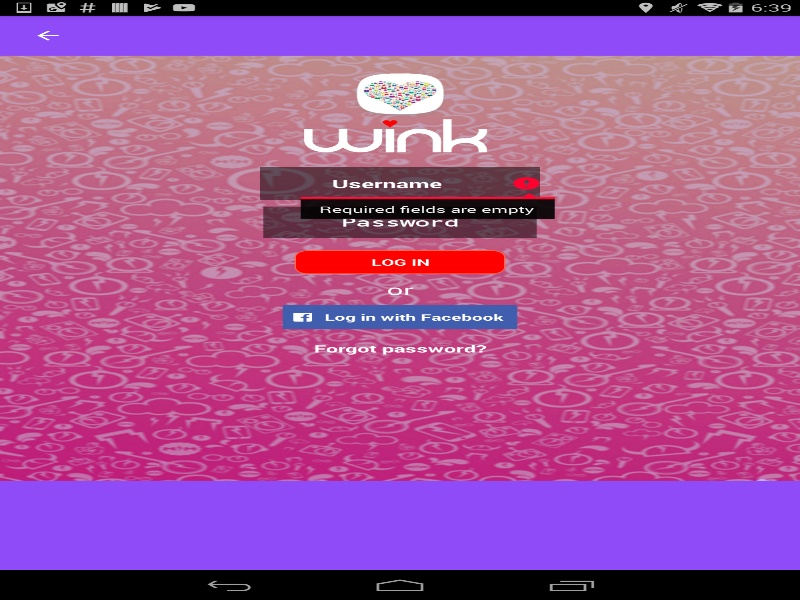Button: (282, 305, 517, 329), (294, 250, 505, 274), (10, 15, 85, 55)
Input: (260, 166, 540, 200), (263, 206, 536, 237)
